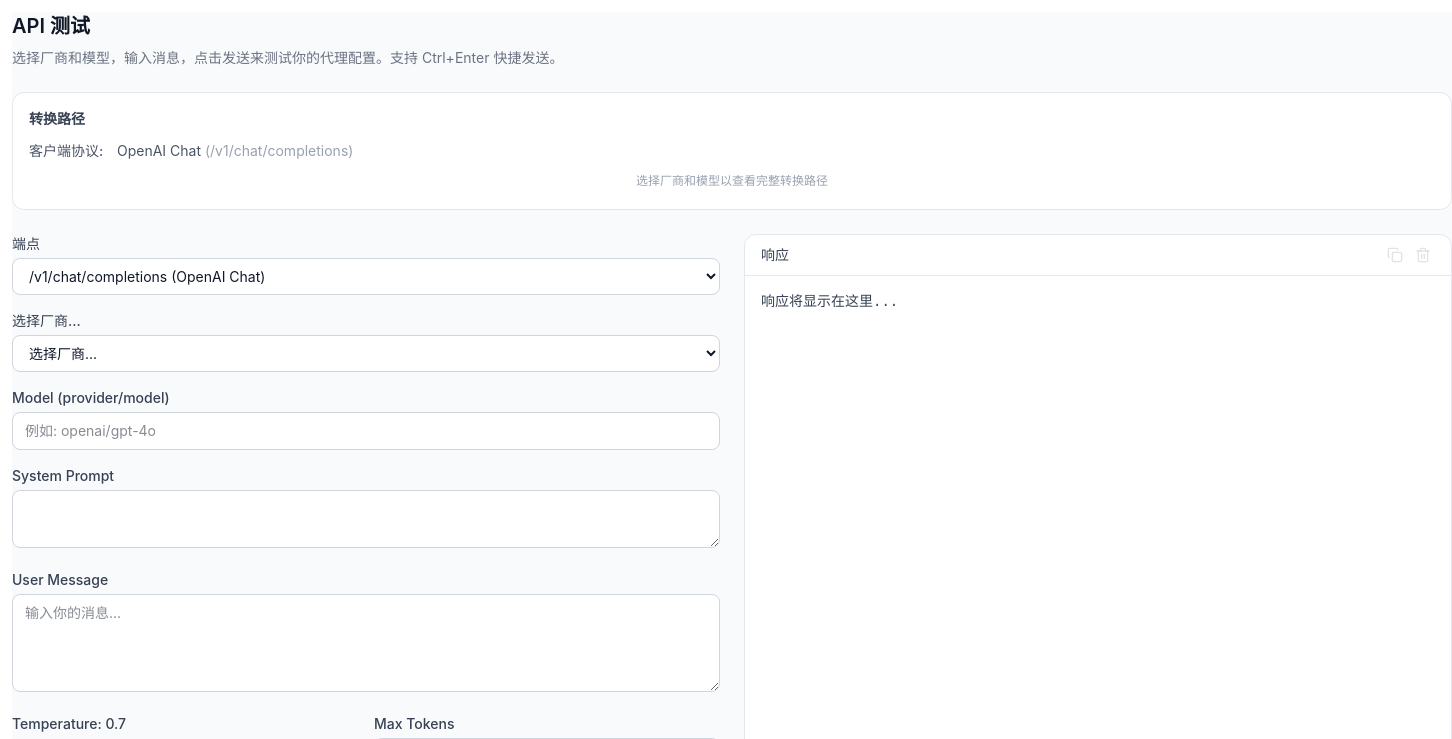
Test: Playground › Provider and Model selection › auto-selects first model when provider is chosen
Expected: the heading "API 测试" is shown, [12,14,90,38]
Select "OpenAI (openai)" in the dropdown labelled "选择厂商...": [366, 354] box [12,335,720,372]
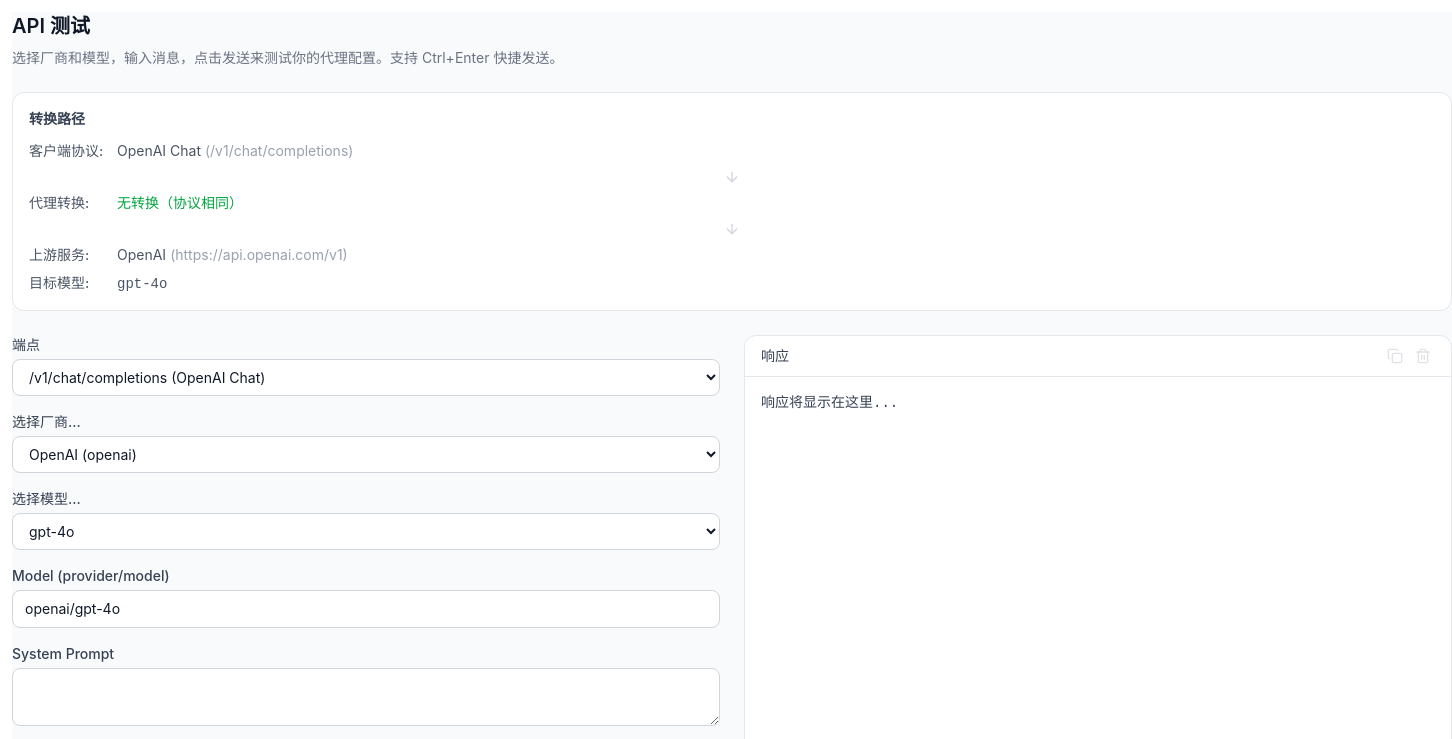
Expected: the field with placeholder "例如: openai/gpt-4o" holds "openai/gpt-4o", [12,590,720,628]
